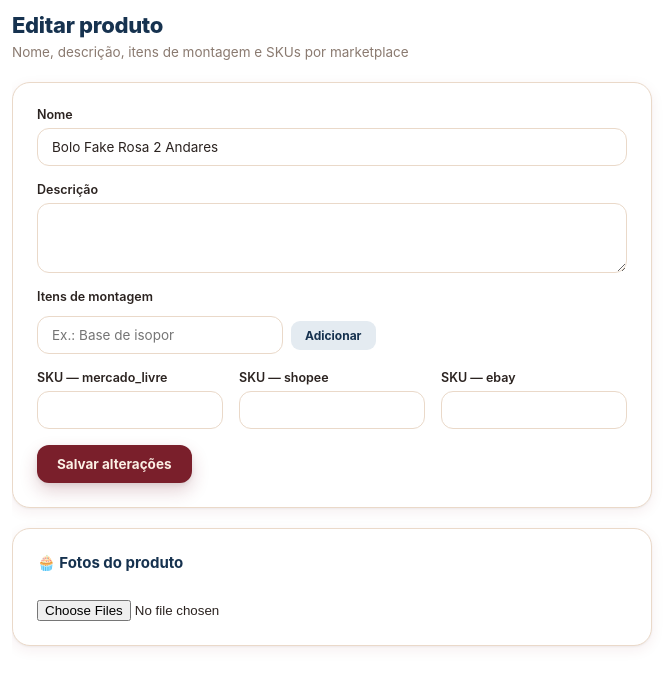
Test: ProductForm — edição › mostra mensagem padrão quando salvar falha por um motivo que não é erro de domínio
The width and height of the screenshot is (670, 696).
expect the field with test id "product-name" is shown: met, box [37,128,627,166]
Click the button with test id "product-submit". click: [114, 464]
box: [37,445,192,483]
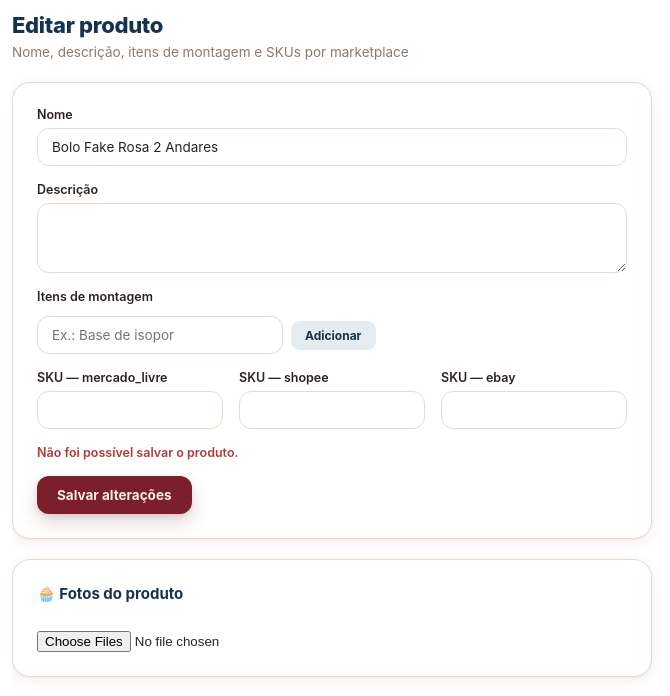
expect the text "Não foi possível salvar o produto." is shown: met, box [37,445,238,460]
